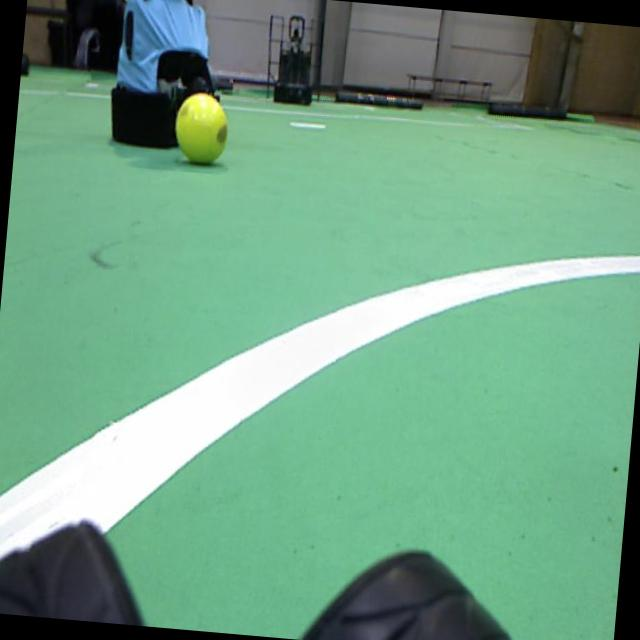ball: (175, 92, 226, 163)
robot: (273, 14, 311, 103)
